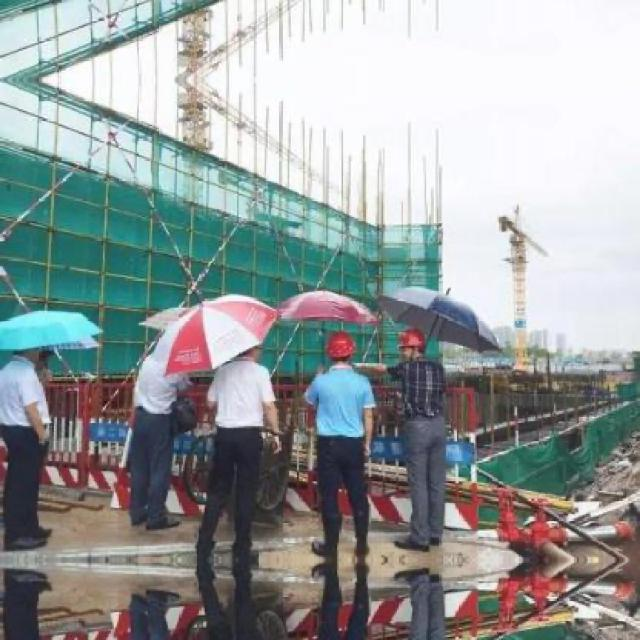con casco: (301, 324, 374, 398), (393, 318, 447, 373)
